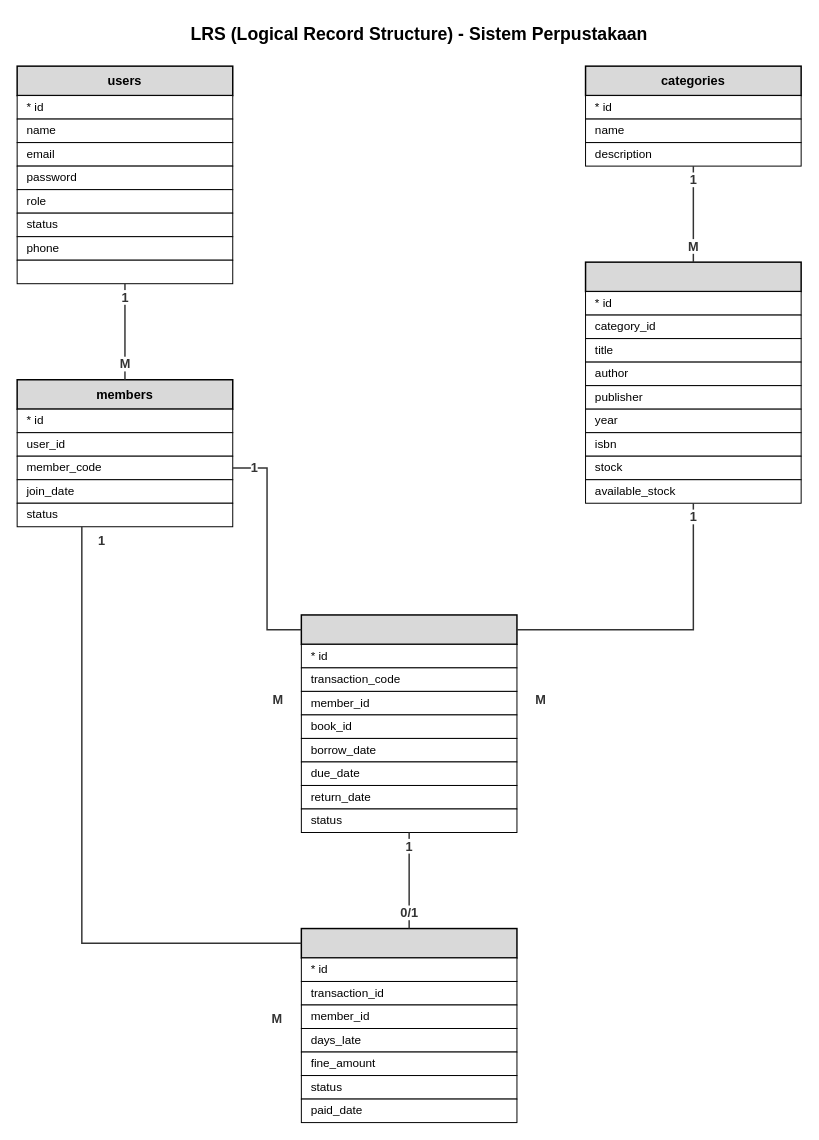
This 819x1140 diagram has some shape labels left out. Here are the shapes that lost their labels. From the top down, the centre of each, then its label:
At pixel 124 271: "address".
At pixel 692 276: "books".
At pixel 408 629: "transactions".
At pixel 408 942: "penalties".
